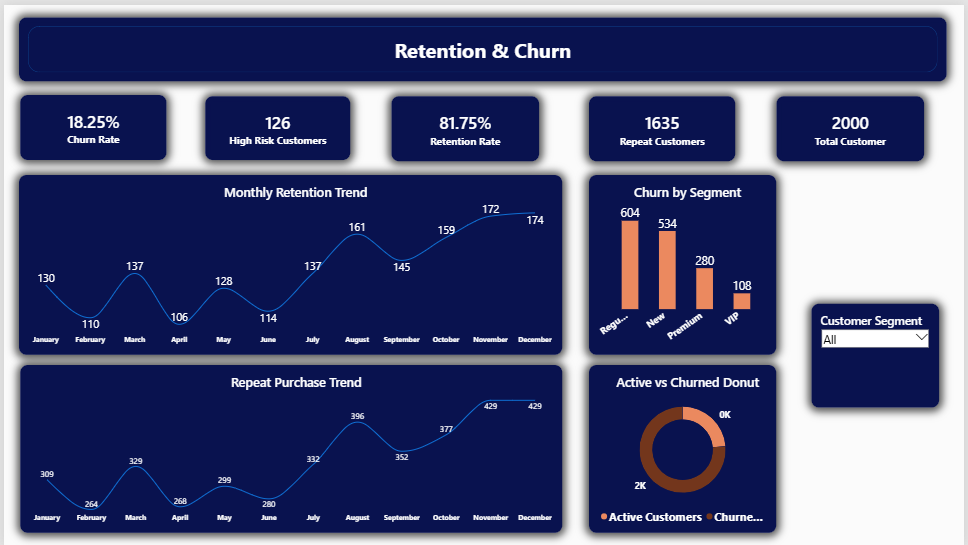

This screenshot's page, from the dashboard's own definition file:
{"tool":"powerbi","page":{"name":"Retention & Churn","canvas":[3840,2160],"ordinal":2},"visuals":[{"type":"shape","box":[60,50,3710,255],"z":0},{"type":"card","fields":{"Values":["ecommerce_orders.Churn Rate"]},"box":[62.8,357.3,589.1,255.9],"z":1000},{"type":"card","fields":{"Values":["ecommerce_orders.Retention Rate"]},"box":[1970.3,357.3,589.1,255.9],"z":2000},{"type":"card","fields":{"Values":["ecommerce_orders.Churned Customers"]},"box":[705,362.2,584.3,251.1],"z":3000},{"type":"card","fields":{"Values":["ecommerce_orders.Returning Customers"]},"box":[2598,362.2,589.1,255.9],"z":4000},{"type":"donutChart","title":"Active vs Churned Donut","fields":{"Y":["ecommerce_orders.Active Customers","ecommerce_orders.Churned Customers"]},"box":[2342.1,1439.1,748.5,671.2],"z":5000},{"type":"columnChart","title":"Churn by Segment","fields":{"Category":["ecommerce_customers.customer_segment"],"Y":["ecommerce_orders.Churned Customers"]},"box":[2342.1,680.9,748.5,719.5],"z":6000},{"type":"slicer","title":"Customer Segment","fields":{"Values":["ecommerce_customers.customer_segment"]},"box":[3230.6,985.1,507.1,690.6],"z":7000},{"type":"card","fields":{"Values":["ecommerce_orders.High Risk Customers"]},"box":[1337.6,362.2,584.3,251.1],"z":8000},{"type":"lineChart","title":"Monthly Retention Trend","fields":{"Category":["ecommerce_orders.order_date.Variation.Date Hierarchy.Month"],"Y":["ecommerce_orders.Repeat Customers"]},"box":[57.9,680.9,2173.1,719.5],"z":9000},{"type":"lineChart","title":"Repeat Purchase Trend","fields":{"Category":["ecommerce_orders.order_date.Variation.Date Hierarchy.Month"],"Y":["ecommerce_orders.Repeat Orders"]},"box":[62.8,1439.1,2168.2,671.2],"z":10000},{"type":"card","fields":{"Values":["ecommerce_customers.Total Customer"]},"box":[3230.6,362.2,589.1,255.9],"z":11000}]}

Visuals, with their boxes in screenshot pixels (x1, y1, x2, y2), scaled from the page's 3840x2160 canvas onto the 968x545 screenshot:
shape: 15 13 950 77
card - ecommerce_orders.Churn Rate: 16 90 164 155
card - ecommerce_orders.Retention Rate: 497 90 645 155
card - ecommerce_orders.Churned Customers: 178 91 325 155
card - ecommerce_orders.Returning Customers: 655 91 803 156
"Active vs Churned Donut" donutChart: 590 363 779 532
"Churn by Segment" columnChart: 590 172 779 353
"Customer Segment" slicer: 814 249 942 423
card - ecommerce_orders.High Risk Customers: 337 91 484 155
"Monthly Retention Trend" lineChart: 15 172 562 353
"Repeat Purchase Trend" lineChart: 16 363 562 532
card - ecommerce_customers.Total Customer: 814 91 963 156
